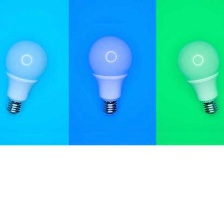light_bulb: (85, 28, 136, 120), (174, 35, 223, 121), (0, 35, 50, 118)
